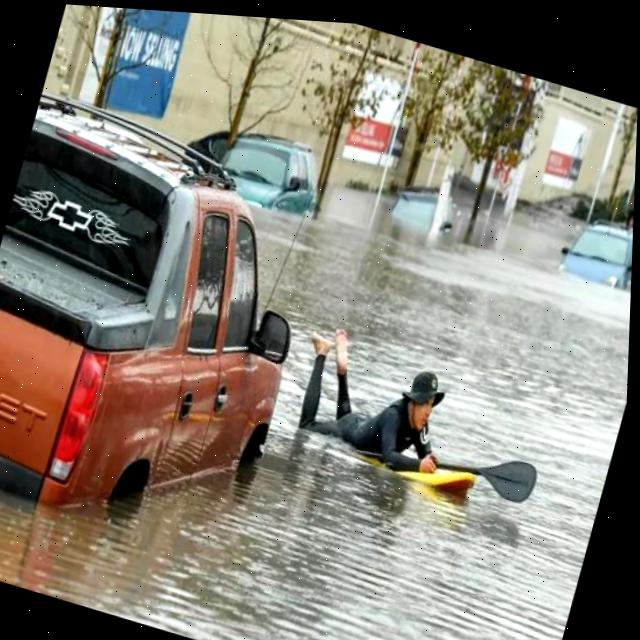civilian: (271, 319, 475, 488)
